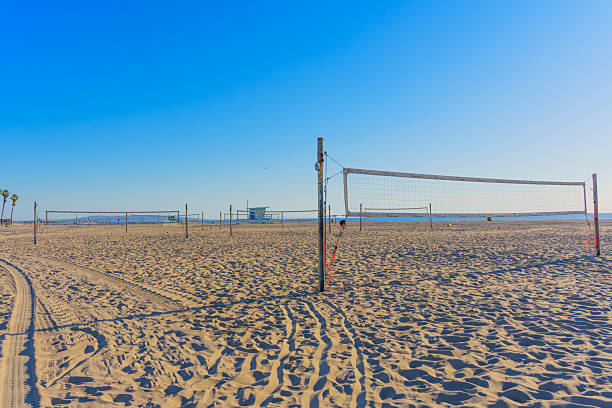vehicle_track: (11, 257, 105, 387), (21, 262, 105, 387), (35, 256, 200, 310), (45, 256, 204, 307), (0, 258, 39, 406), (323, 299, 365, 407), (255, 304, 295, 405), (48, 327, 106, 386), (301, 299, 331, 406), (35, 289, 56, 329), (0, 232, 31, 240)
